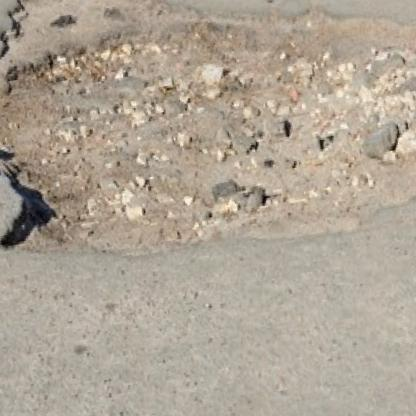pothole: (0, 0, 416, 301)
